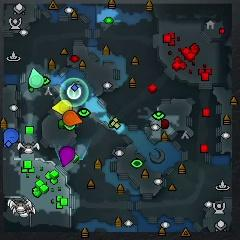Other: (67, 85, 81, 99)
p1: (3, 128, 18, 147)
p2: (29, 68, 44, 88)
p3: (59, 146, 75, 167)
p4: (52, 100, 73, 114)
p5: (62, 111, 82, 126)
